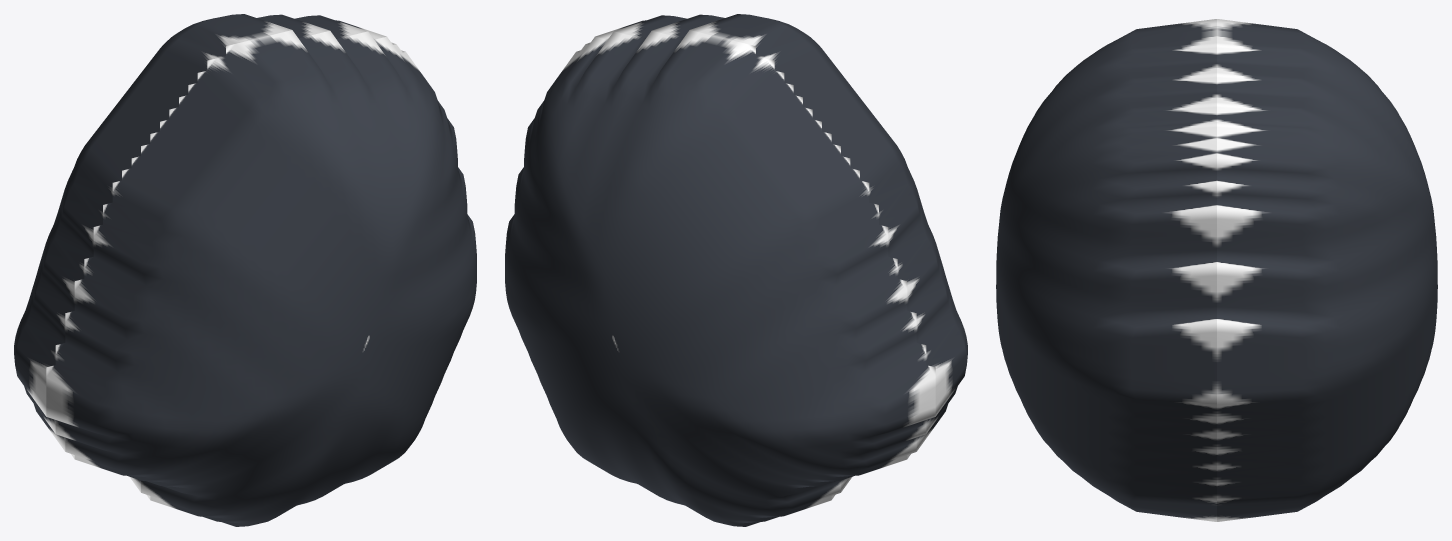
Rendered from e2e-view3d.glb.
3 renders of one model, left to right at view 1: azimuth 30°, elevation 25°; view 2: azimuth 150°, elevation 25°; view 3: azimuth 270°, elevation 25°, orthographic. The views are drawn at different scales.
Parts seen in each view (by area): view 1: 台灯草图; view 2: 台灯草图; view 3: 台灯草图.
Boxes of the visible parts, left/top/right/bottom form: 台灯草图: left=14, top=14, right=476, bottom=526; 台灯草图: left=505, top=14, right=967, bottom=526; 台灯草图: left=996, top=19, right=1437, bottom=521.
Bounding box in the file's own units: 0.3281 × 0.3594 × 0.3019.
Materials: 1 (1 with a texture image).
